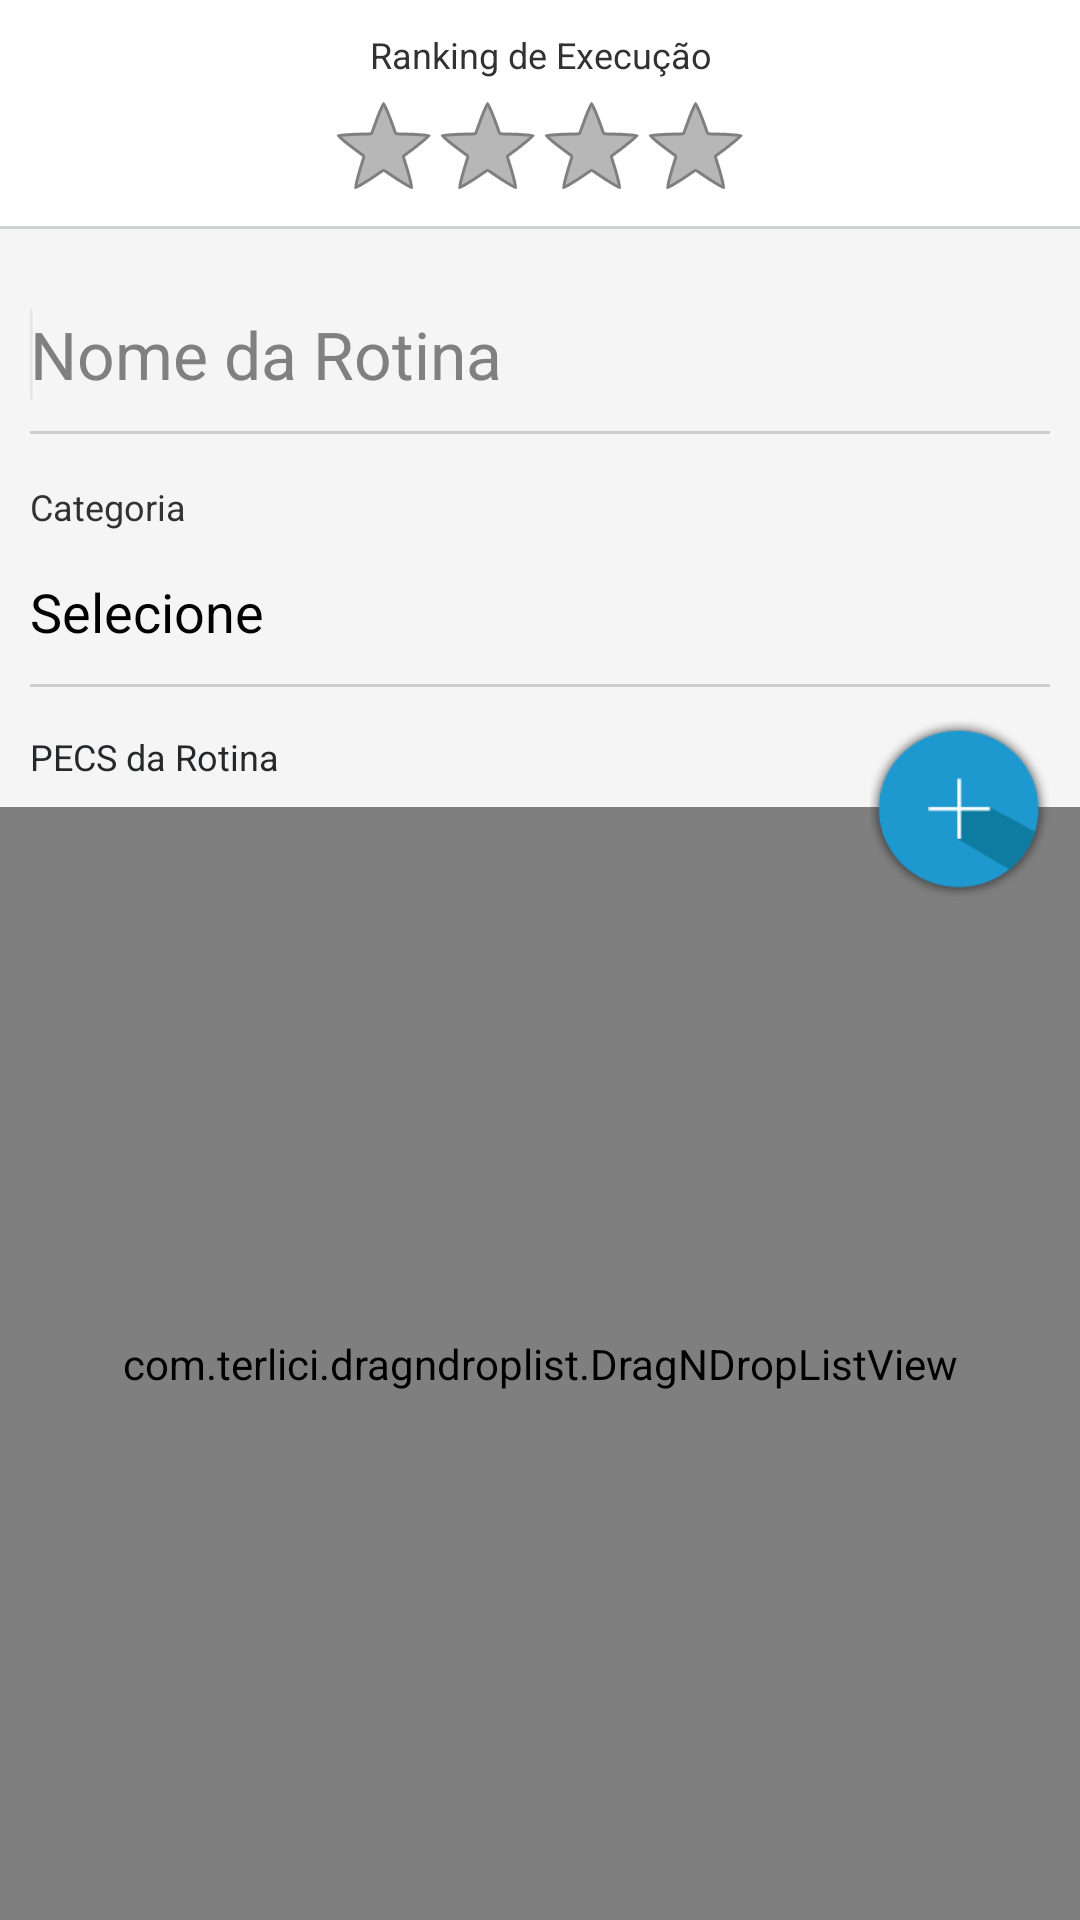

Point at icon controls on the screen. Image size 1080px x 1920px, points as (x=x, y=y).
mais: (x=960, y=807)
